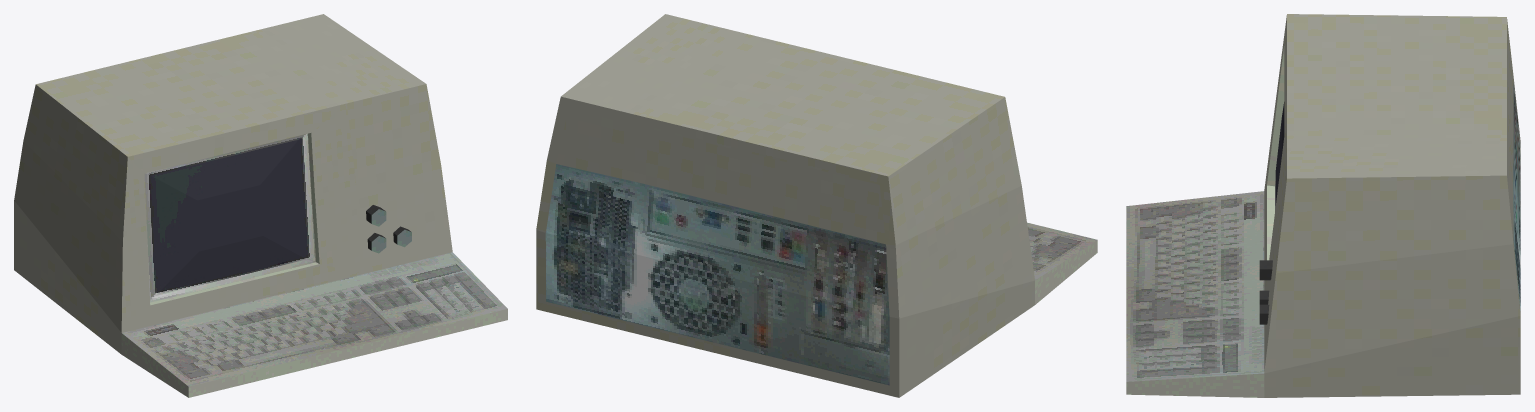
Rendered from desktop_brick.glb.
3 views of the same model, side by side, from view 1: azimuth 30°, elevation 25°; view 2: azimuth 150°, elevation 25°; view 3: azimuth 270°, elevation 25° (orthographic). The views are drawn at different scales.
Parts seen in each view (by area): view 1: desktop_brick; view 2: desktop_brick; view 3: desktop_brick.
Part boxes in pixels (bbox=[...]): desktop_brick: bbox=[14, 14, 507, 397]; desktop_brick: bbox=[536, 14, 1097, 397]; desktop_brick: bbox=[1126, 14, 1520, 397].
Bounding box in the file's own units: 0.8889 × 0.4785 × 0.8118.
Materials: 1 (1 with a texture image).
